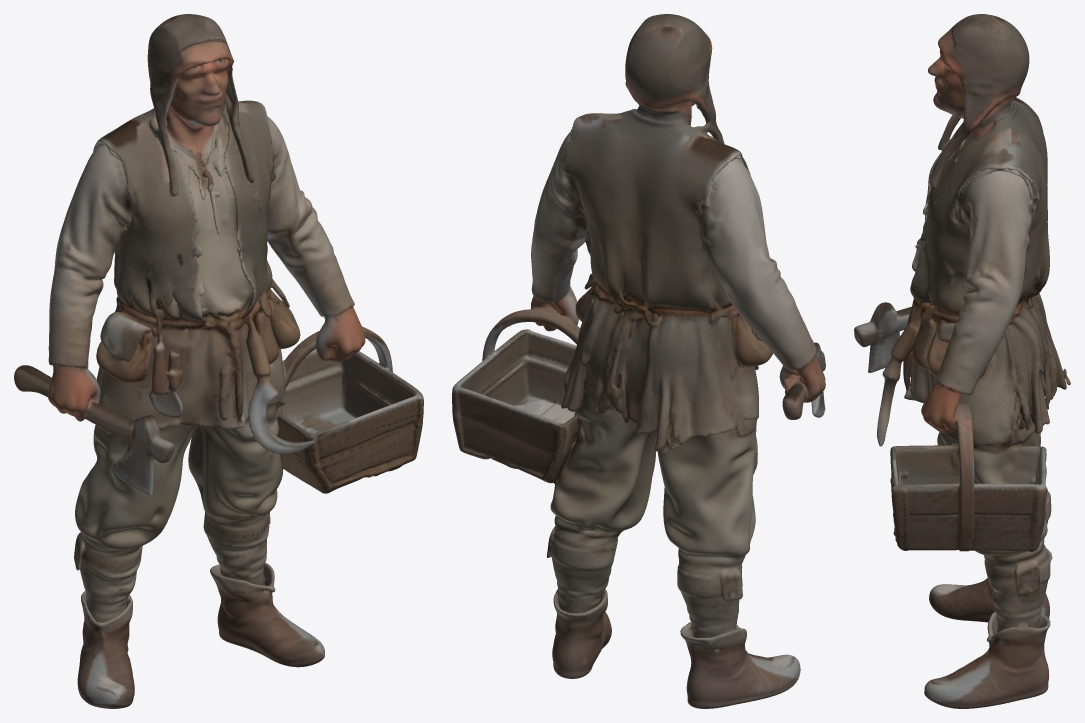
File: tripo_convert_4beedbb6-6ce5-47cd-ac79-6e60dd24521d.glb
3 renders of one model, left to right at view 1: azimuth 30°, elevation 25°; view 2: azimuth 150°, elevation 25°; view 3: azimuth 270°, elevation 25°, orthographic. The views are drawn at different scales.
Parts seen in each view (by area): view 1: tripo_node_4beedbb6-6ce5-47cd-ac79-6e60dd24521d; view 2: tripo_node_4beedbb6-6ce5-47cd-ac79-6e60dd24521d; view 3: tripo_node_4beedbb6-6ce5-47cd-ac79-6e60dd24521d.
Part boxes in pixels (x1=…): tripo_node_4beedbb6-6ce5-47cd-ac79-6e60dd24521d: x1=14, y1=14, x2=423, y2=708; tripo_node_4beedbb6-6ce5-47cd-ac79-6e60dd24521d: x1=452, y1=14, x2=825, y2=708; tripo_node_4beedbb6-6ce5-47cd-ac79-6e60dd24521d: x1=854, y1=14, x2=1070, y2=708.
Bounding box in the file's own units: 0.5518 × 1 × 0.3073.
Materials: 1 (1 with a texture image).
